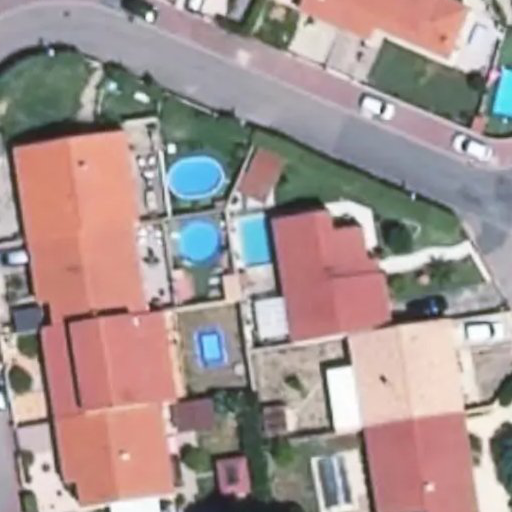pool: (234, 218, 277, 265)
